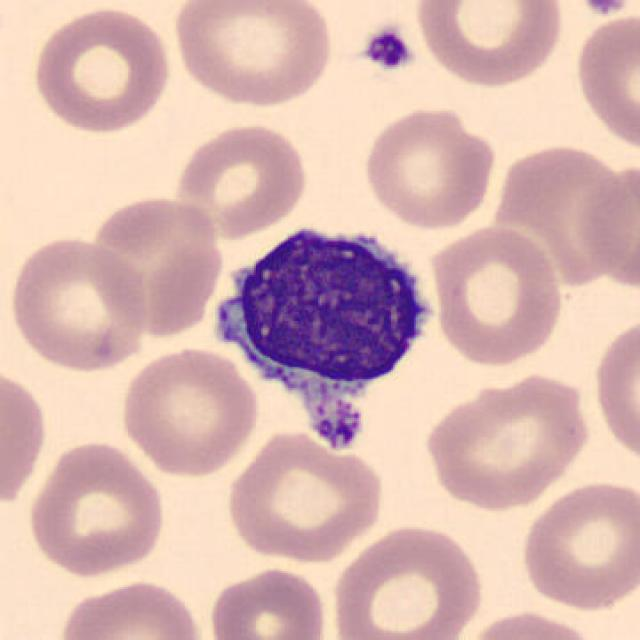Lymphocyte: (203, 210, 446, 460)
Platelets: (359, 23, 418, 74), (574, 0, 635, 18)
RBC: (420, 369, 596, 513), (220, 427, 388, 564), (487, 140, 633, 288), (5, 231, 153, 374), (85, 190, 226, 338), (25, 436, 169, 580), (425, 222, 565, 369), (27, 2, 176, 138), (116, 344, 262, 479), (327, 520, 487, 640), (169, 0, 338, 109), (359, 102, 498, 231), (171, 118, 311, 242), (516, 476, 638, 614), (411, 0, 567, 90), (570, 10, 640, 156), (53, 576, 209, 640), (204, 564, 330, 640), (572, 155, 638, 295), (0, 361, 52, 513), (590, 310, 638, 471), (457, 606, 610, 640)
